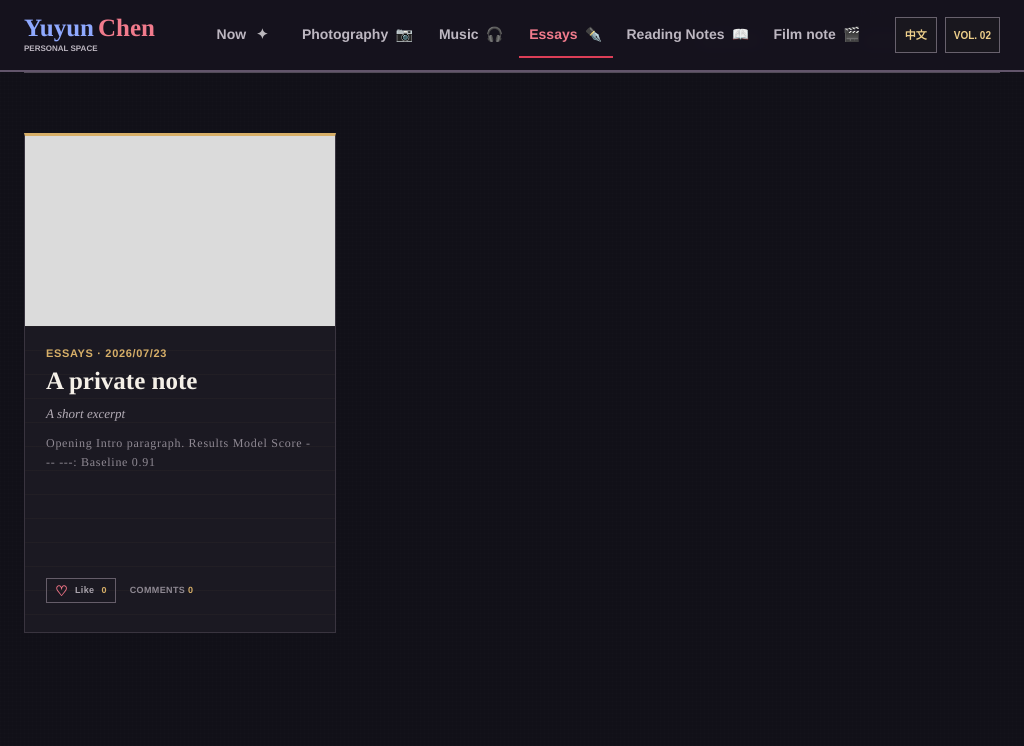
owner session restoration › keeps article cards collapsed until the visitor expands one
(page scrolled)
Expected: the heading "A private note" is shown, [46,368,197,395]
Click the element with class "archive-entry". click: (180, 383)
box: [24,133,336,633]
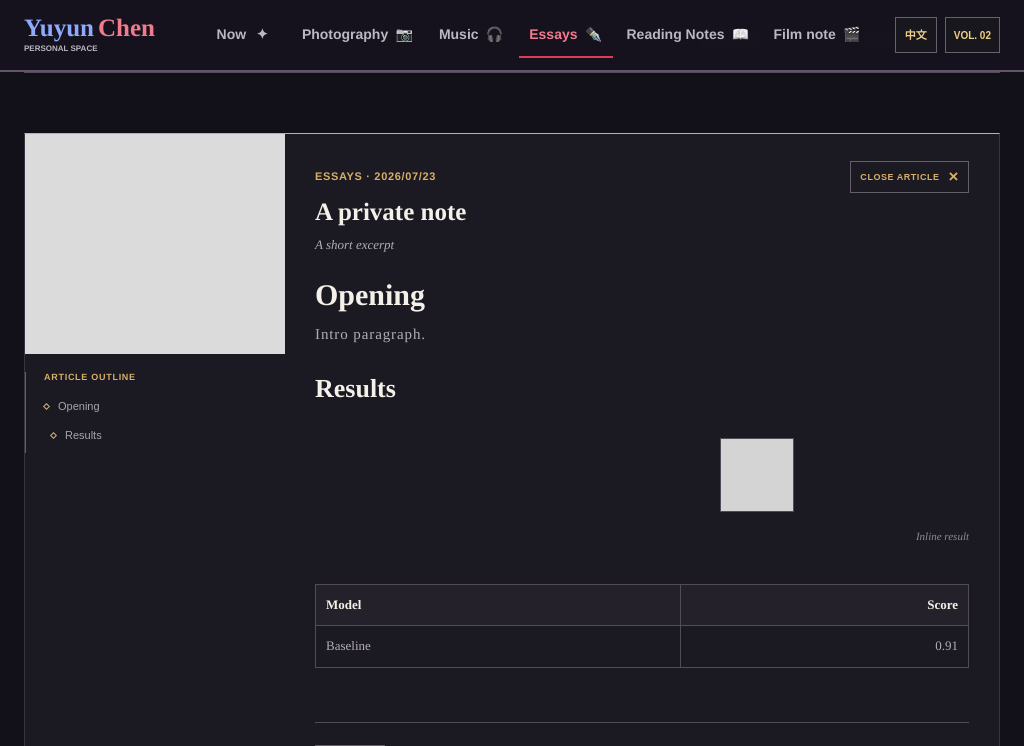
Expected: the element with class "archive-entry__body" is shown, [315,279,969,688]
Expected: the table is shown, [315,584,969,668]
Expected: the navigation bar "Article outline" is shown, [25,372,285,453]
Click the button "Close article ×". click: (910, 177)
box: [850,161,969,193]
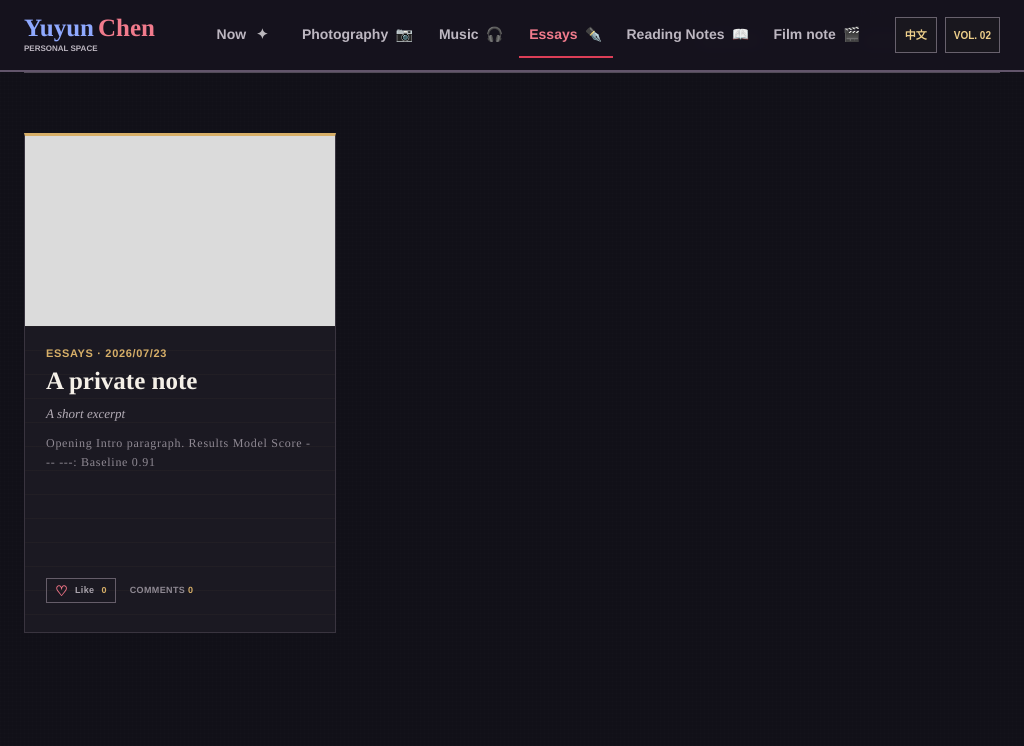
Expected: the table is gone
